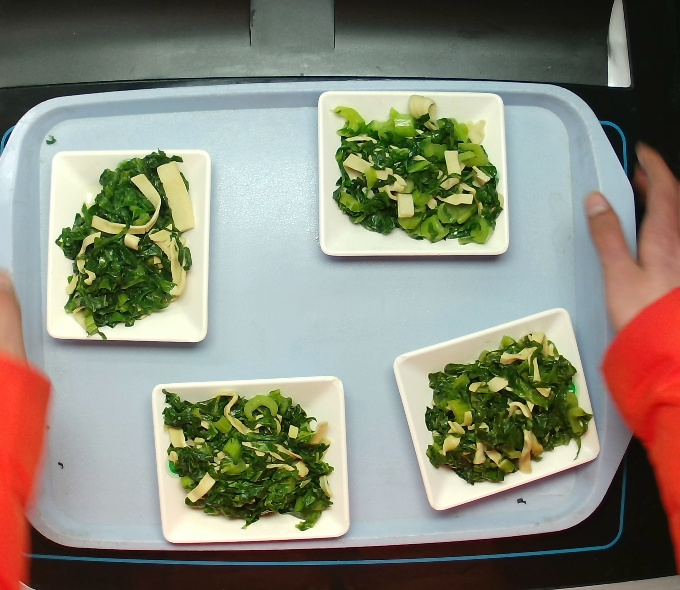wcq-QingCaiChaoQianZhang: (310, 92, 517, 256), (162, 380, 338, 531), (418, 332, 592, 482), (53, 152, 191, 339)
